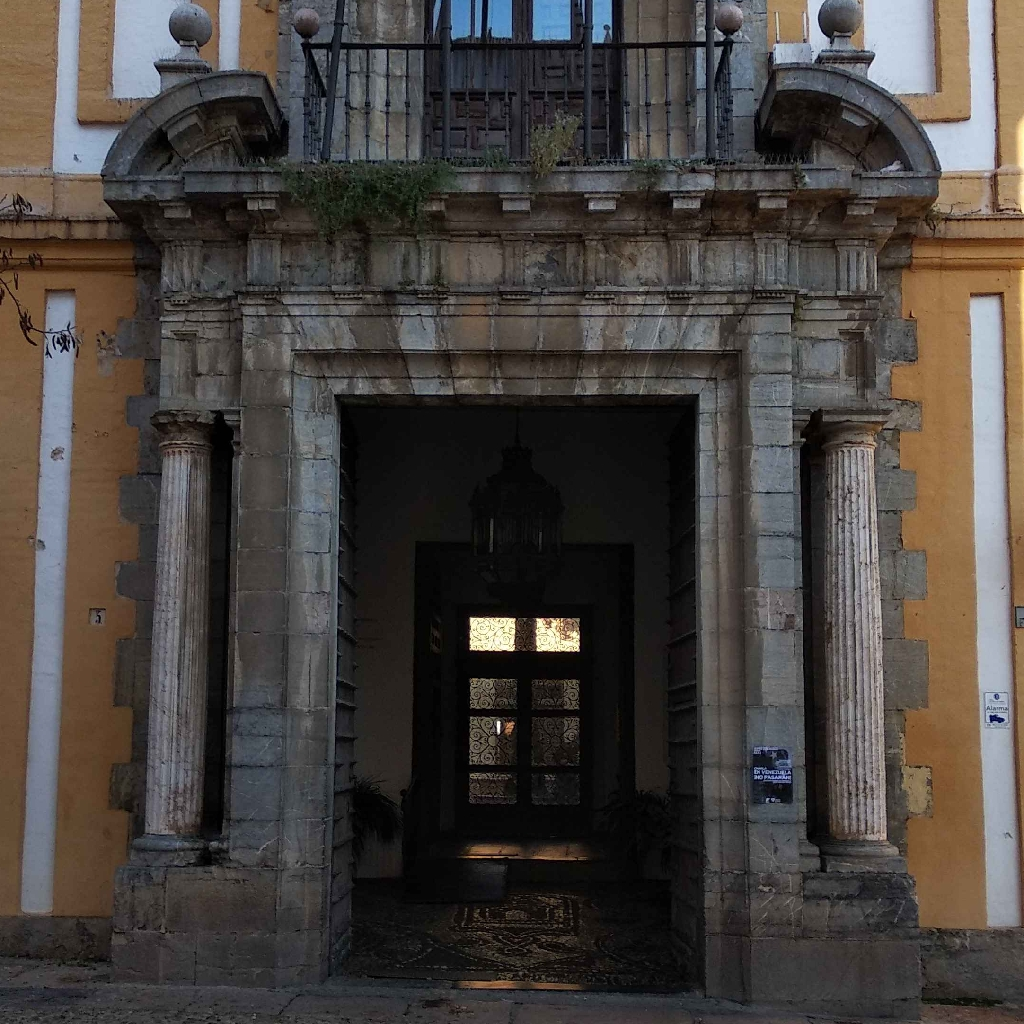fronton-partido: (103, 54, 946, 218)
vano-adintelado: (282, 326, 750, 950)
